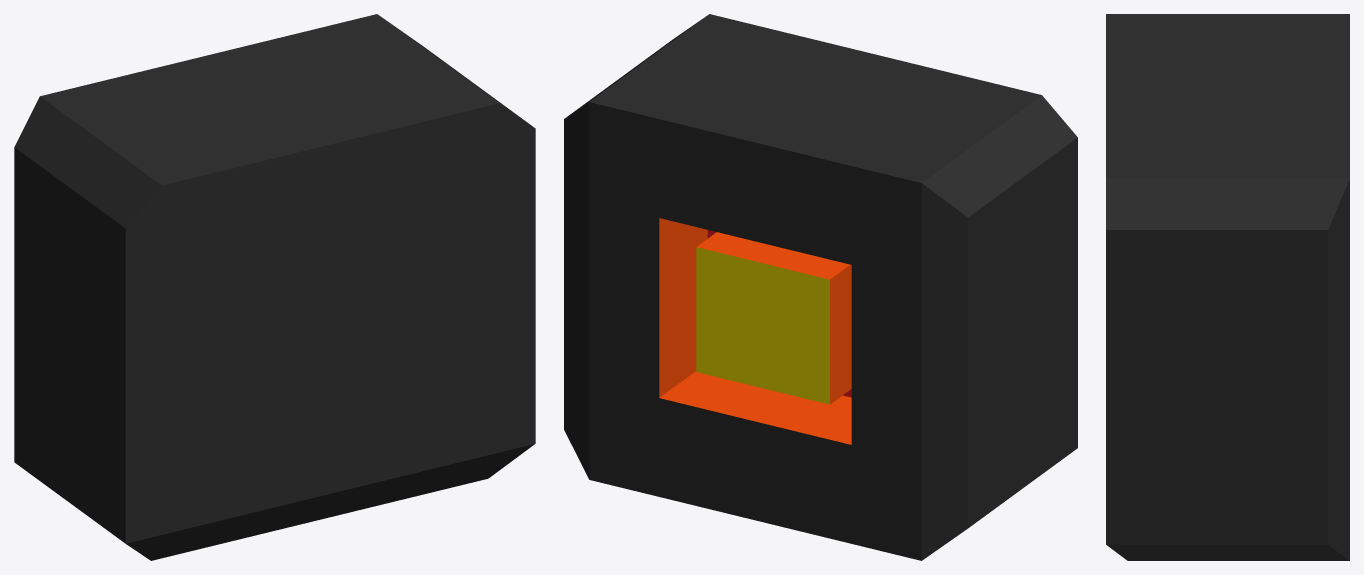
File: Jet.fbx
3 views of the same model, side by side, from view 1: azimuth 30°, elevation 25°; view 2: azimuth 150°, elevation 25°; view 3: azimuth 270°, elevation 25° (orthographic).
Visible parts, largest first — view 1: Booster.002; view 2: Booster.002; view 3: Booster.002.
Boxes of the visible parts, left/top/right/bottom form: Booster.002: left=14, top=14, right=535, bottom=560; Booster.002: left=564, top=14, right=1077, bottom=560; Booster.002: left=1106, top=14, right=1349, bottom=560.
Bounding box in the file's own units: 1.71 × 0.8812 × 1.53.
